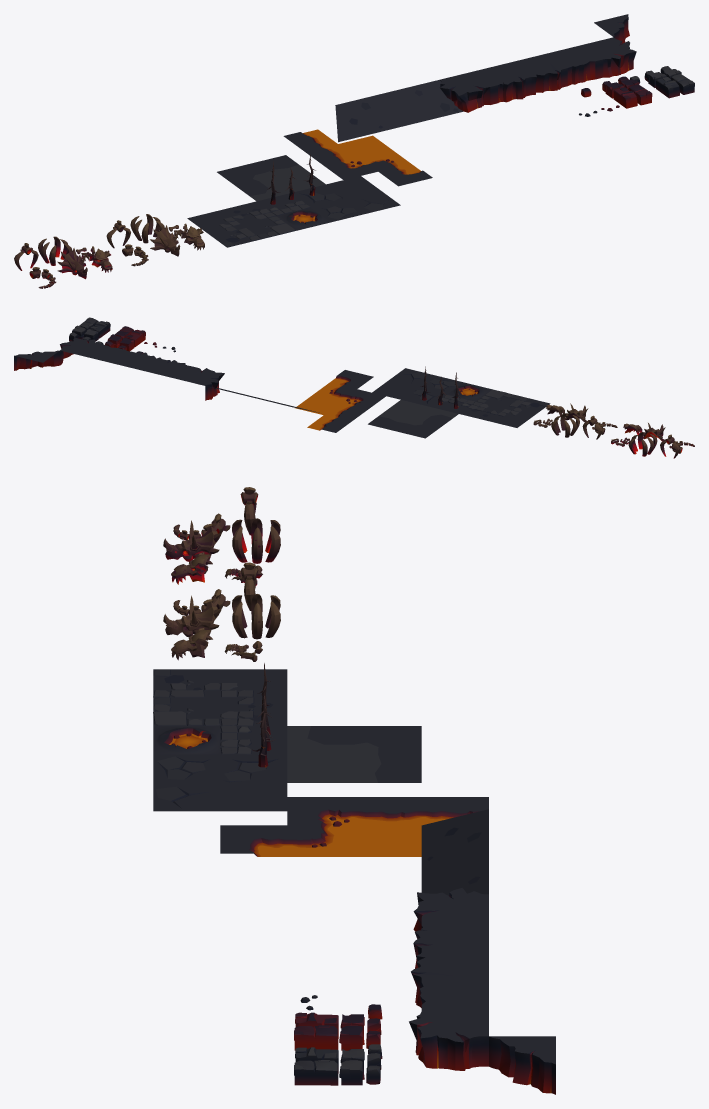
File: magma tileset_editor.fbx
3 views of the same model, one above another, from view 1: azimuth 30°, elevation 25°; view 2: azimuth 150°, elevation 25°; view 3: azimuth 270°, elevation 25° (orthographic). The views are drawn at different scales.
Parts seen in each view (by area): view 1: ramp_left, corner_A, corner_B, middle_A, middle_B, ramp_middle, middle_C, ramp_right, ruin_A, ruin_C, ruin_D, soil_inner_corner (+21 smaller); view 2: corner_A, inner_A, corner_B, middle_B, middle_A, lava_pit_corner, lava_pit_inner_corner_A, lava_pit_inner_corner_B, ruin_D, soil_clean_A, ruin_C, middle_C (+16 smaller); view 3: corner_B, inner_A, ramp_left, corner_A, middle_B, lava_pit_middle_A, middle_A, lava_pit_corner, lava_pit_inner_corner_A, lava_pit_inner_corner_B, middle_C, crater (+22 smaller).
Part boxes in pixels (x1,y1,x2,y2): ramp_left: [335, 97, 389, 142]; corner_A: [439, 71, 494, 112]; corner_B: [579, 37, 636, 78]; middle_A: [475, 63, 529, 103]; middle_B: [509, 54, 564, 95]; ramp_middle: [370, 88, 424, 129]; middle_C: [544, 46, 598, 86]; ramp_right: [405, 79, 463, 120]; ruin_A: [207, 224, 261, 247]; ruin_C: [222, 201, 275, 224]; ruin_D: [242, 216, 296, 238]; soil_inner_corner: [217, 163, 270, 186]; corner_A: [176, 366, 224, 400]; inner_A: [14, 350, 59, 370]; corner_B: [60, 337, 104, 365]; middle_B: [118, 352, 163, 371]; middle_A: [147, 359, 192, 378]; lava_pit_corner: [312, 383, 356, 402]; lava_pit_inner_corner_A: [328, 370, 373, 388]; lava_pit_inner_corner_B: [341, 389, 385, 408]; ruin_D: [476, 389, 521, 408]; soil_clean_A: [372, 380, 417, 399]; ruin_C: [459, 402, 504, 420]; middle_C: [89, 345, 134, 364]; corner_B: [409, 1007, 488, 1070]; inner_A: [489, 1036, 555, 1094]; ramp_left: [421, 809, 488, 867]; corner_A: [413, 887, 488, 931]; middle_B: [411, 951, 488, 1007]; lava_pit_middle_A: [354, 797, 421, 828]; middle_A: [413, 922, 488, 968]; lava_pit_corner: [287, 825, 354, 856]; lava_pit_inner_corner_A: [220, 825, 287, 856]; lava_pit_inner_corner_B: [287, 797, 354, 828]; middle_C: [419, 979, 488, 1007]; crater: [153, 726, 220, 754].
Bounding box in the file's own units: 4056 × 254 × 1201.
Materials: 1 (1 with a texture image).
